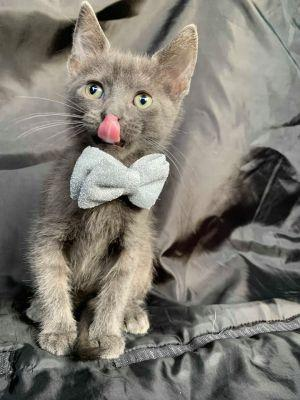rblue: (50, 8, 202, 169)
